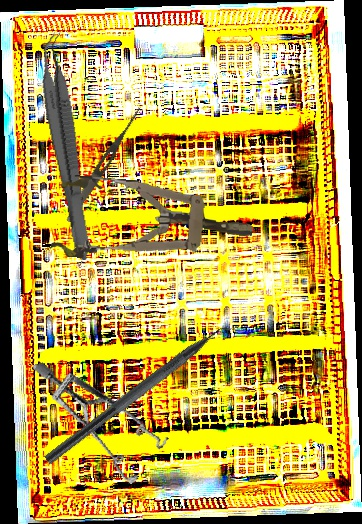Chopper: (43, 310, 248, 478)
Dressing Forceps: (63, 102, 145, 225)
Speculum: (31, 334, 178, 502), (49, 173, 257, 273)
Tissue Forceps: (31, 30, 105, 262)
